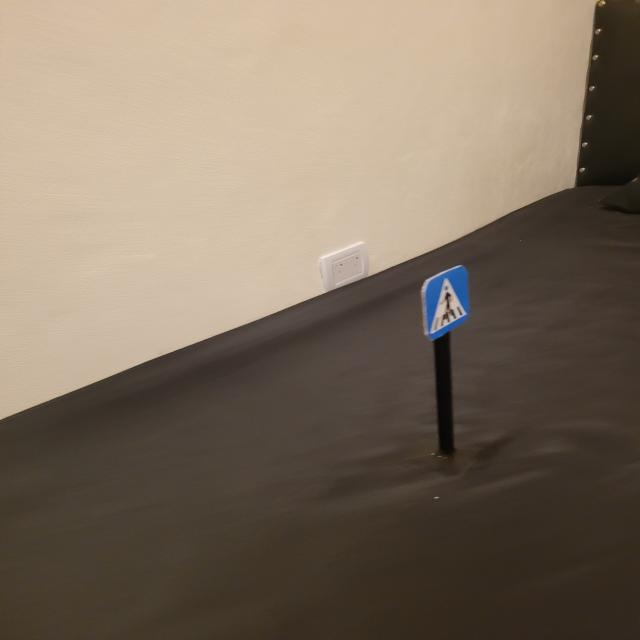crosswalk: (420, 265, 475, 342)
